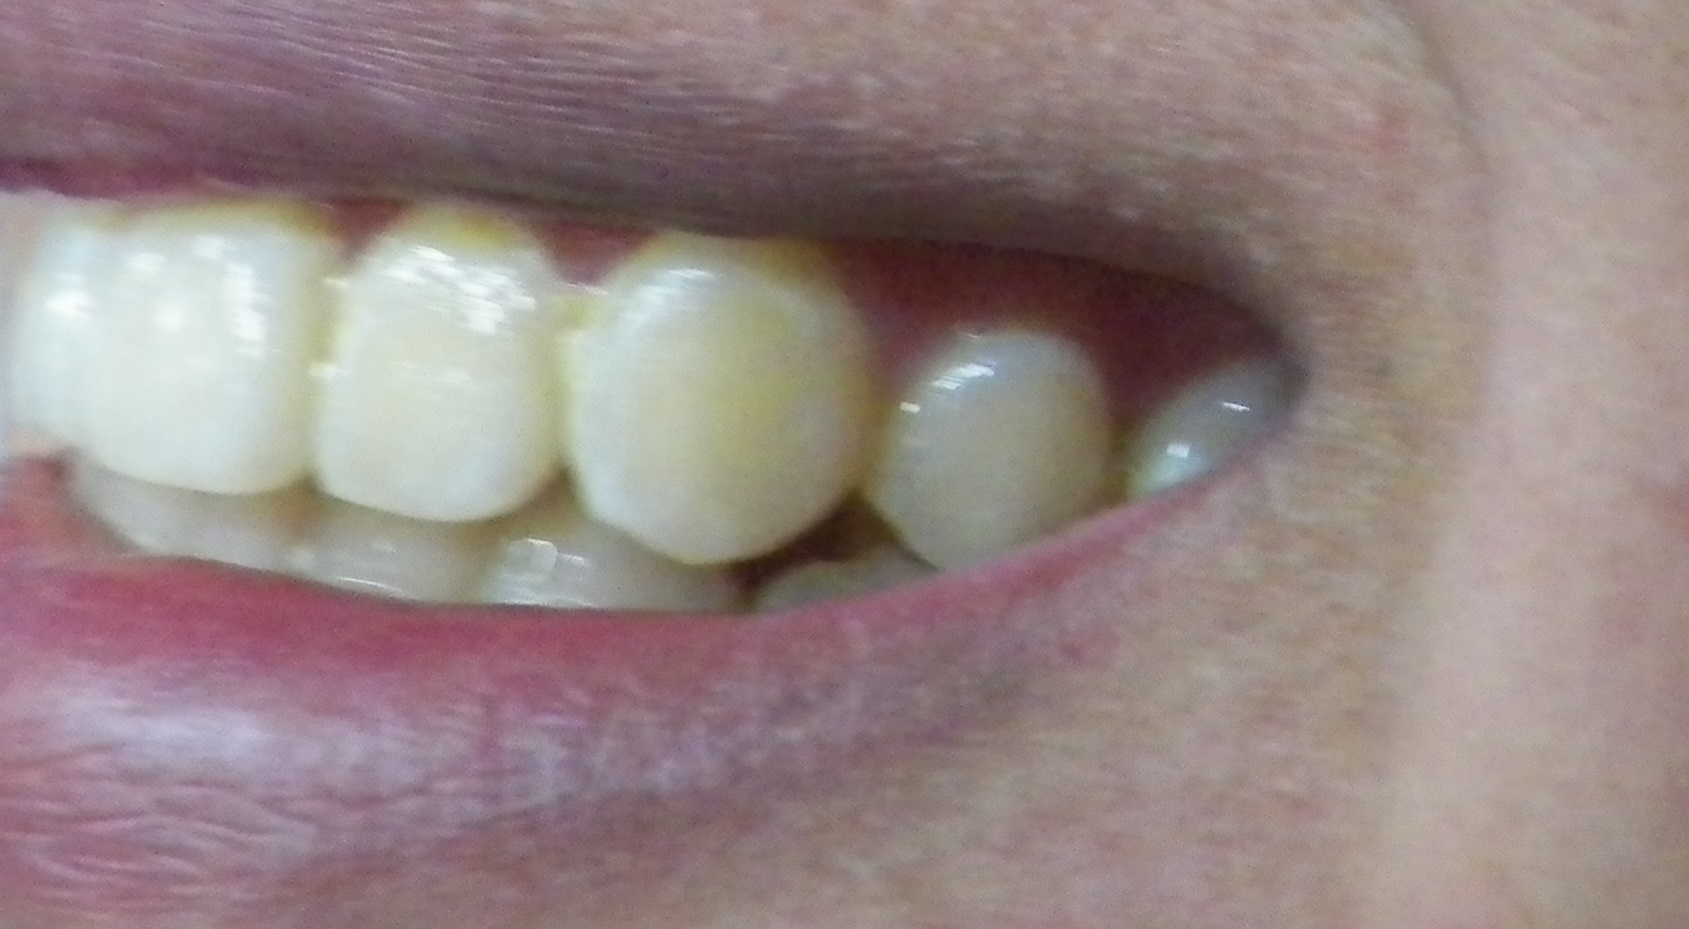boca: (3, 194, 1272, 622)
